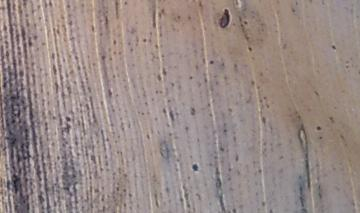tarspot: (217, 7, 232, 29), (11, 173, 21, 193), (113, 1, 120, 20), (151, 8, 157, 30), (167, 108, 175, 122), (51, 61, 58, 77), (311, 88, 321, 98), (190, 163, 201, 172), (188, 106, 197, 117), (89, 154, 97, 166), (26, 35, 33, 48), (225, 105, 234, 115), (23, 127, 29, 142), (53, 80, 59, 95), (193, 191, 202, 201), (160, 65, 168, 76), (160, 107, 168, 117), (103, 14, 109, 27), (43, 120, 49, 133), (106, 87, 113, 98), (260, 115, 267, 126), (35, 3, 42, 14), (64, 114, 72, 123), (181, 124, 190, 132), (249, 78, 257, 87), (9, 137, 17, 146), (23, 18, 31, 27), (2, 22, 8, 33), (37, 14, 43, 25), (241, 19, 249, 27), (66, 19, 74, 27), (89, 23, 96, 32), (65, 1, 72, 10), (264, 101, 271, 110), (328, 115, 335, 124), (201, 56, 208, 65), (50, 51, 56, 61), (55, 23, 60, 35), (31, 22, 37, 32), (80, 1, 86, 11), (246, 45, 253, 53), (330, 43, 337, 51), (315, 124, 322, 132), (218, 145, 225, 153), (144, 133, 151, 141), (201, 76, 208, 84), (128, 45, 135, 53), (21, 1, 28, 9), (153, 43, 160, 51), (73, 54, 80, 62), (55, 154, 62, 162), (234, 151, 239, 162), (141, 36, 147, 45), (155, 73, 161, 82), (9, 95, 18, 101), (143, 99, 149, 108), (10, 102, 15, 112), (154, 198, 159, 208), (226, 175, 231, 185), (208, 59, 215, 66), (111, 39, 118, 46), (47, 1, 54, 8), (317, 134, 324, 141), (231, 206, 238, 213), (23, 12, 30, 19), (256, 167, 263, 174), (100, 53, 106, 61), (157, 13, 163, 21), (169, 80, 175, 88), (125, 40, 131, 48), (289, 7, 297, 13), (32, 33, 38, 41), (115, 185, 121, 193), (121, 186, 127, 194), (126, 192, 134, 198), (194, 63, 200, 71), (10, 118, 16, 126), (186, 14, 192, 22), (75, 63, 81, 71), (233, 62, 239, 70), (98, 99, 104, 107), (175, 14, 181, 21), (159, 8, 165, 15), (205, 101, 211, 108), (166, 97, 172, 104), (139, 110, 145, 117), (219, 61, 225, 68), (51, 114, 57, 121), (197, 1, 202, 9), (15, 108, 20, 116), (2, 81, 7, 89), (154, 88, 159, 96), (111, 72, 116, 80), (187, 74, 193, 80), (221, 128, 227, 134), (344, 64, 350, 70), (21, 155, 27, 161), (262, 95, 268, 101), (268, 206, 273, 213), (105, 135, 110, 142), (258, 98, 263, 105), (234, 1, 239, 7), (294, 1, 299, 7), (123, 1, 128, 6), (307, 1, 313, 4)
